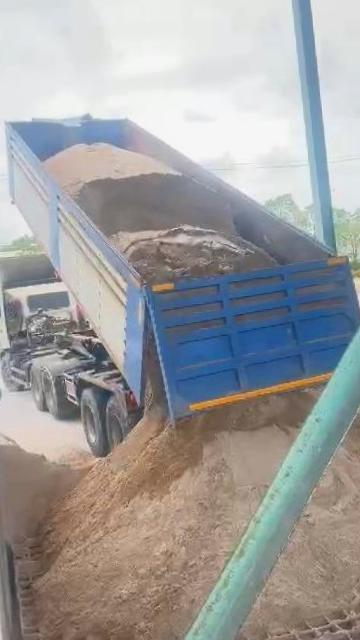sand: (37, 394, 314, 640), (44, 143, 275, 281), (246, 386, 360, 637), (0, 442, 106, 541)
